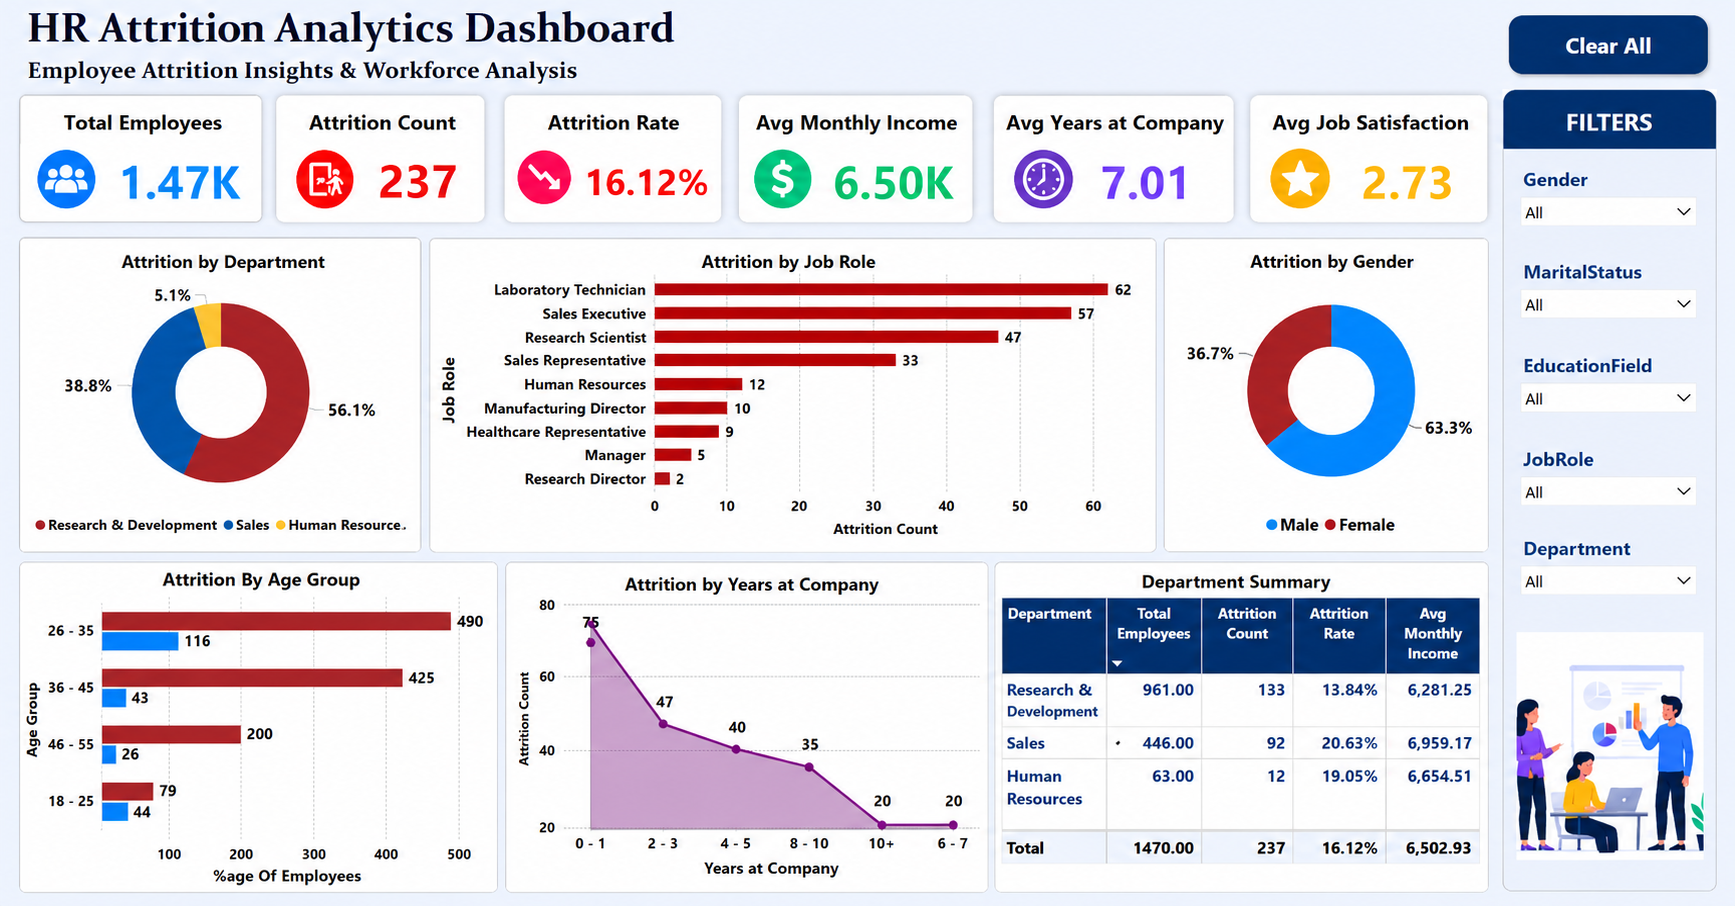

The dashboard page shown, as its layout file describes it:
{"tool":"powerbi","page":{"name":"Page 1","canvas":[2300,1200],"ordinal":0},"visuals":[{"type":"cardVisual","title":"Attrition Count","fields":{"Data":["Employee_Attrition.Attrition Count"]},"box":[348.4,125,275,170],"z":0},{"type":"cardVisual","title":"Attrition Rate","fields":{"Data":["Employee_Attrition.Attrition Rate"]},"box":[649.4,125.7,285.7,168.6],"z":1000},{"type":"textbox","box":[1997.5,120,290,1062.5],"z":2000},{"type":"cardVisual","title":"Avg Job Satisfaction","fields":{"Data":["Employee_Attrition.Avg Job Satisfaction"]},"box":[1640.5,129.7,335.1,167.6],"z":3000},{"type":"shape","box":[1997.5,120,290,85],"z":4000},{"type":"cardVisual","title":"Avg Monthly Income","fields":{"Data":["Employee_Attrition.Avg Monthly Income"]},"box":[961,128.6,311.4,168.6],"z":5000},{"type":"slicer","fields":{"Values":["Employee_Attrition.Gender"]},"box":[2017.5,225,247.5,92.5],"z":6000},{"type":"slicer","fields":{"Values":["Employee_Attrition.MaritalStatus"]},"box":[2017.5,347.5,247.5,107.5],"z":8000},{"type":"cardVisual","title":"Avg Years at Company","fields":{"Data":["Employee_Attrition.Avg Years at Company"]},"box":[1298.4,129.7,316.2,167.6],"z":9000},{"type":"slicer","fields":{"Values":["Employee_Attrition.EducationField"]},"box":[2020,477.5,247.5,97.5],"z":10000},{"type":"textbox","box":[20,0,1951.4,120],"z":11000},{"type":"slicer","fields":{"Values":["Employee_Attrition.JobRole"]},"box":[2020,600,247.5,92.5],"z":12000},{"type":"clusteredBarChart","title":"Attrition by Job Role","fields":{"Category":["Employee_Attrition.JobRole"],"Y":["Employee_Attrition.Attrition Count"]},"box":[545.7,317.1,983,422],"z":13000},{"type":"donutChart","title":"Attrition by Department","fields":{"Category":["Employee_Attrition.Department"],"Y":["Employee_Attrition.Attrition Count"]},"box":[20,317.1,517,421],"z":14000},{"type":"donutChart","title":"Attrition by Gender","fields":{"Y":["Employee_Attrition.Attrition Count"],"Category":["Employee_Attrition.Gender"]},"box":[1537.5,317.5,442.5,420],"z":15000},{"type":"clusteredBarChart","title":"Attrition By Age Group","fields":{"Category":["Employee_Attrition.Age Group"],"Series":["Employee_Attrition.Attrition"],"Y":["Employee_Attrition.Total Employees"]},"box":[20,751.4,630,434],"z":16000},{"type":"lineChart","title":"Attrition  by Years at Company ","fields":{"Y":["Employee_Attrition.Attrition Count"],"Category":["Employee_Attrition.Years at Company Group"]},"box":[657.6,751.4,652,431.4],"z":17000},{"type":"tableEx","title":"Department Summary","fields":{"Values":["Employee_Attrition.Department","Employee_Attrition.Total Employees","Employee_Attrition.Attrition Count","Employee_Attrition.Attrition Rate","Employee_Attrition.Avg Monthly Income"]},"box":[1317.1,751.4,662.9,434.3],"z":18000},{"type":"slicer","fields":{"Values":["Employee_Attrition.Department"]},"box":[2017.5,717.5,247.5,102.5],"z":19000},{"type":"actionButton","box":[1995,10,290,100],"z":20000},{"type":"shape","box":[0,0,1971.4,125.7],"z":21000},{"type":"image","box":[2018.9,813.5,248.6,367.6],"z":22000},{"type":"cardVisual","title":"Total Employees","fields":{"Data":["Employee_Attrition.Total Employees"]},"box":[20,126.7,316.7,170],"z":22001}]}

Visuals, with their boxes in screenshot pixels (x1, y1, x2, y2), scaled from the page's 2300x1200 canvas onto the 1735x906 screenshot:
"Attrition Count" cardVisual: detection(263, 94, 470, 223)
"Attrition Rate" cardVisual: detection(490, 95, 705, 222)
textbox: detection(1507, 91, 1726, 893)
"Avg Job Satisfaction" cardVisual: detection(1238, 98, 1490, 224)
shape: detection(1507, 91, 1726, 155)
"Avg Monthly Income" cardVisual: detection(725, 97, 960, 224)
slicer - Employee_Attrition.Gender: detection(1522, 170, 1709, 240)
slicer - Employee_Attrition.MaritalStatus: detection(1522, 262, 1709, 344)
"Avg Years at Company" cardVisual: detection(979, 98, 1218, 224)
slicer - Employee_Attrition.EducationField: detection(1524, 361, 1710, 434)
textbox: detection(15, 0, 1487, 91)
slicer - Employee_Attrition.JobRole: detection(1524, 453, 1710, 523)
"Attrition by Job Role" clusteredBarChart: detection(412, 239, 1153, 558)
"Attrition by Department" donutChart: detection(15, 239, 405, 557)
"Attrition by Gender" donutChart: detection(1160, 240, 1494, 557)
"Attrition By Age Group" clusteredBarChart: detection(15, 567, 490, 895)
"Attrition  by Years at Company " lineChart: detection(496, 567, 988, 893)
"Department Summary" tableEx: detection(994, 567, 1494, 895)
slicer - Employee_Attrition.Department: detection(1522, 542, 1709, 619)
actionButton: detection(1505, 8, 1724, 83)
shape: detection(0, 0, 1487, 95)
image: detection(1523, 614, 1710, 892)
"Total Employees" cardVisual: detection(15, 96, 254, 224)
